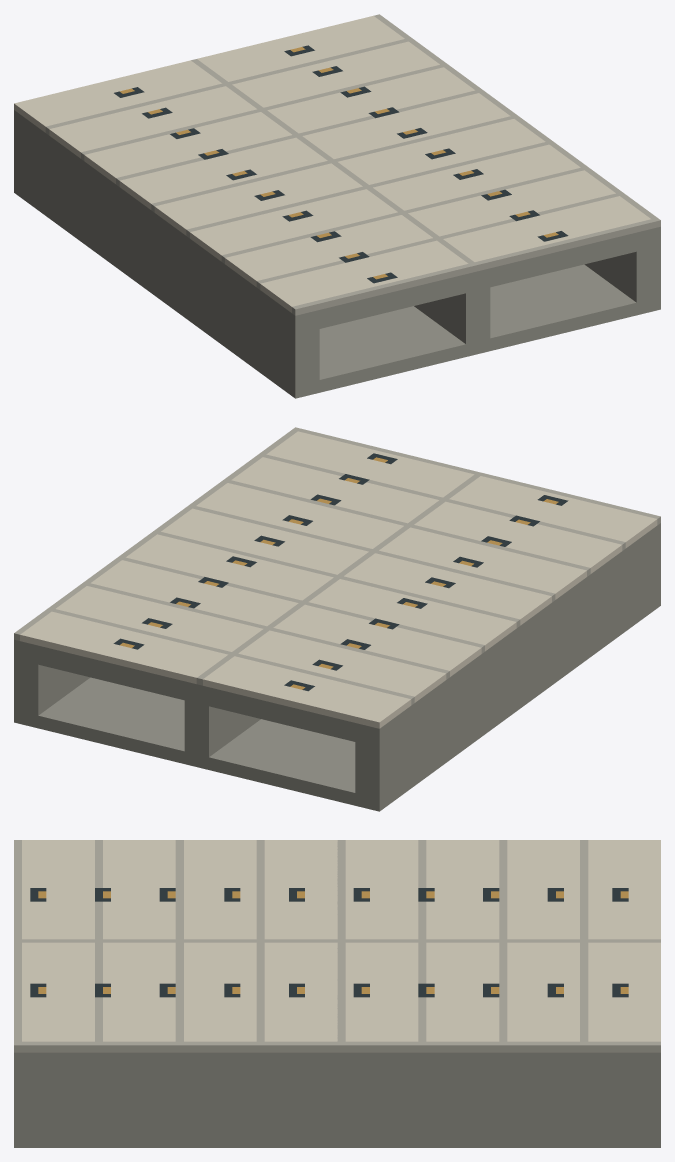
3 renders of one model, top to bottom at view 1: azimuth 30°, elevation 25°; view 2: azimuth 150°, elevation 25°; view 3: azimuth 270°, elevation 25°, orthographic. The views are drawn at different scales.
Visible parts, largest first — view 1: 既有轨道高架路床; view 2: 既有轨道高架路床; view 3: 既有轨道高架路床.
Part boxes in pixels (<box>): 既有轨道高架路床: <box>14,14,660,398</box>; 既有轨道高架路床: <box>14,427,660,811</box>; 既有轨道高架路床: <box>14,840,660,1147</box>.
Bounding box in the file's own units: 6 × 1.4 × 8.
Materials: 5 (5 with a texture image).
